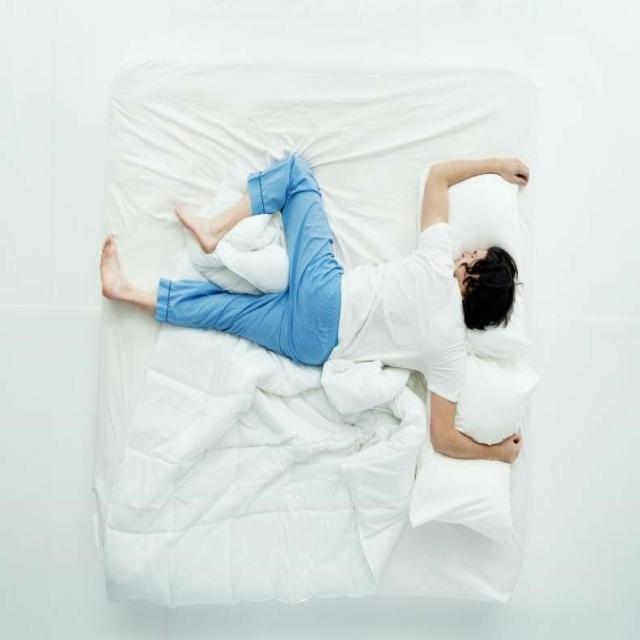sleeping-person: (91, 145, 531, 483)
